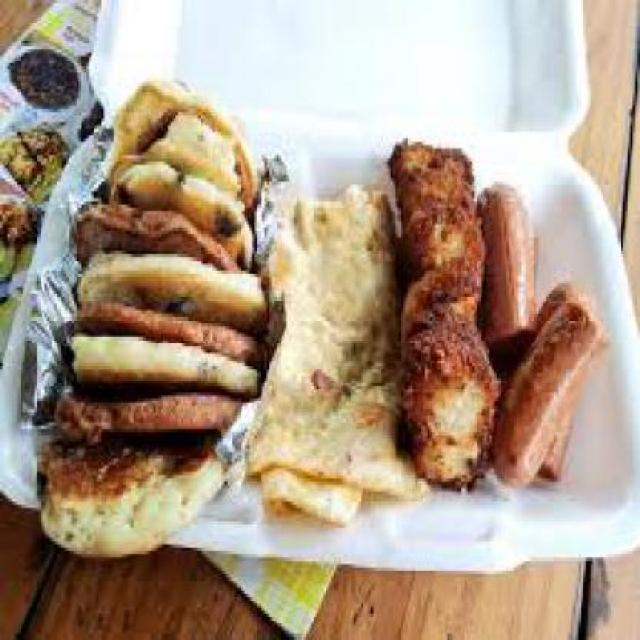hot dog: (490, 178, 598, 492)
omelette: (264, 172, 388, 518)
pancakes: (64, 85, 225, 564)
